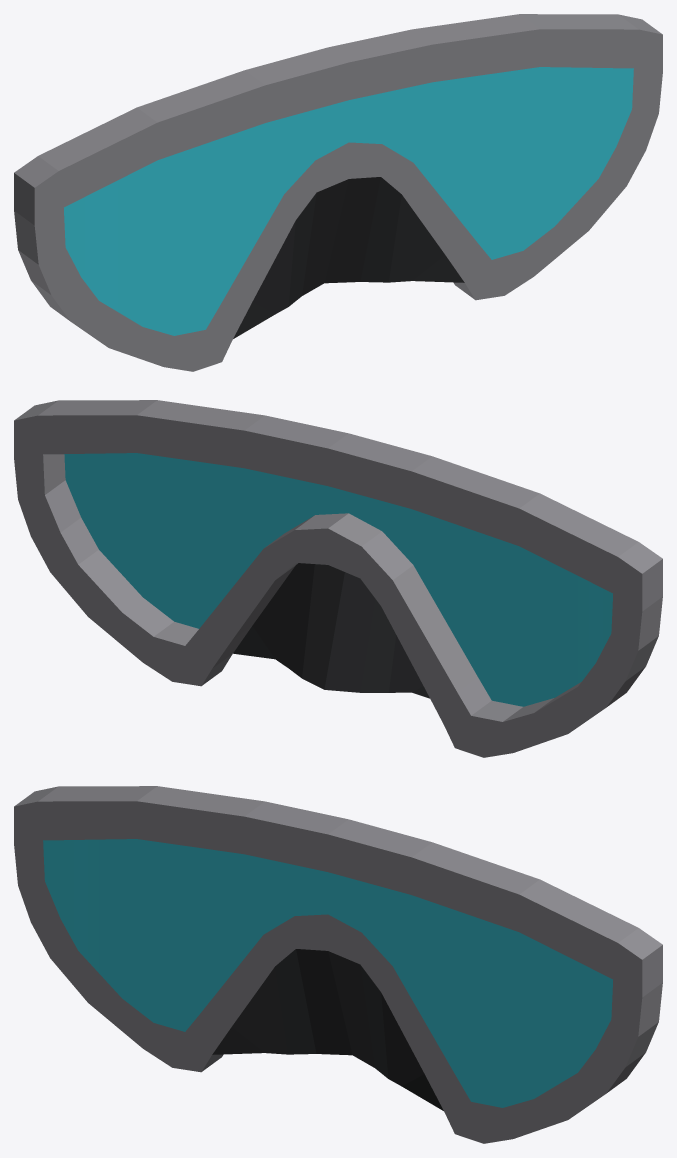
Rendered from Swiming.fbx.
3 renders of one model, top to bottom at view 1: azimuth 30°, elevation 25°; view 2: azimuth 150°, elevation 25°; view 3: azimuth 330°, elevation 25°, orthographic.
Parts seen in each view (by area): view 1: Swiming; view 2: Swiming; view 3: Swiming.
Boxes of the visible parts, bbox=[...] form: Swiming: bbox=[14, 14, 662, 371]; Swiming: bbox=[14, 400, 662, 757]; Swiming: bbox=[14, 786, 662, 1143].
Size of the model in its own units: 1.08 by 0.4456 by 0.0726.
